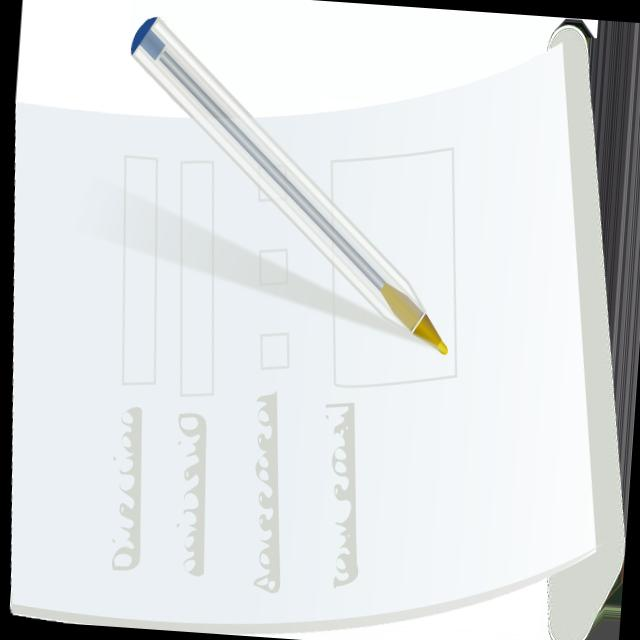pen: (78, 0, 487, 395)
